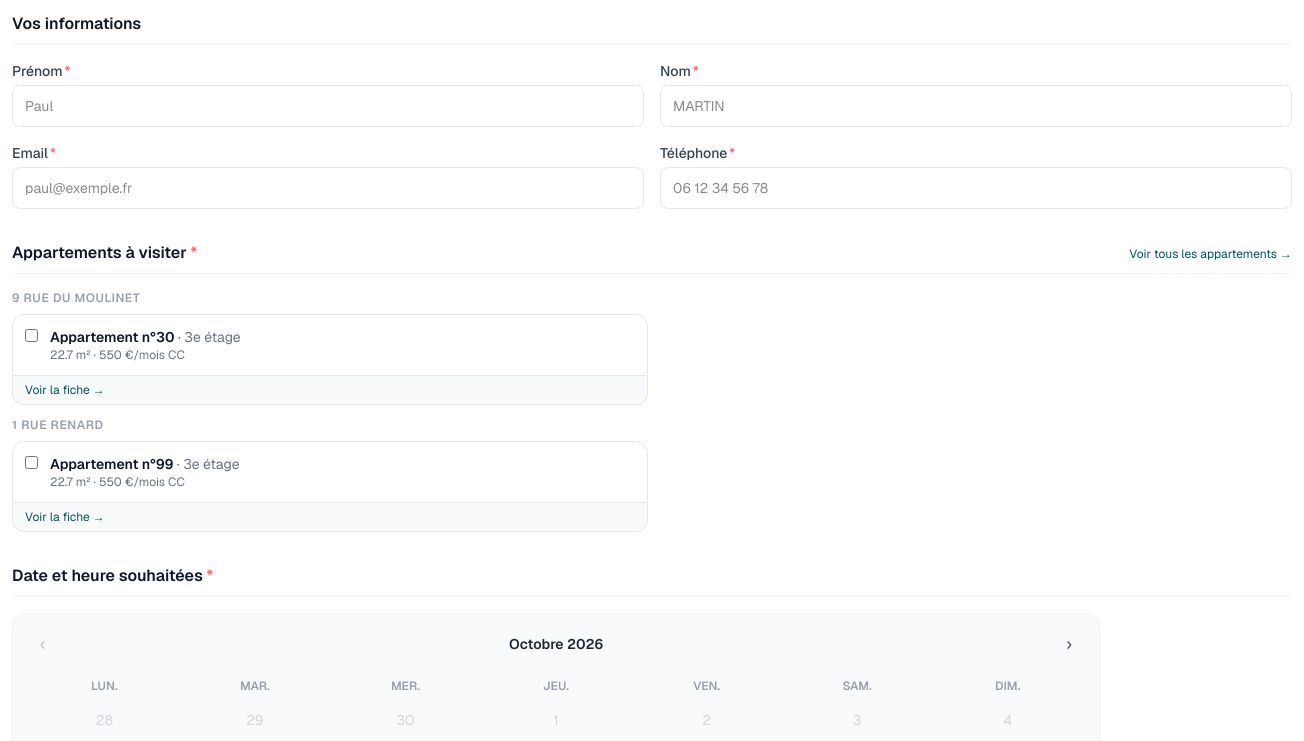
VisitorForm — sélection d'appartement et créneau › interdit de sélectionner un appartement d'un autre immeuble
What coordinates should you click on to do the following:
click the checkbox labelled "Appartement n°30 · 3e étage 22.7 m² · 550 €/mois CC"
I would click on:
 (32, 336)
Its box is [25, 329, 38, 342].
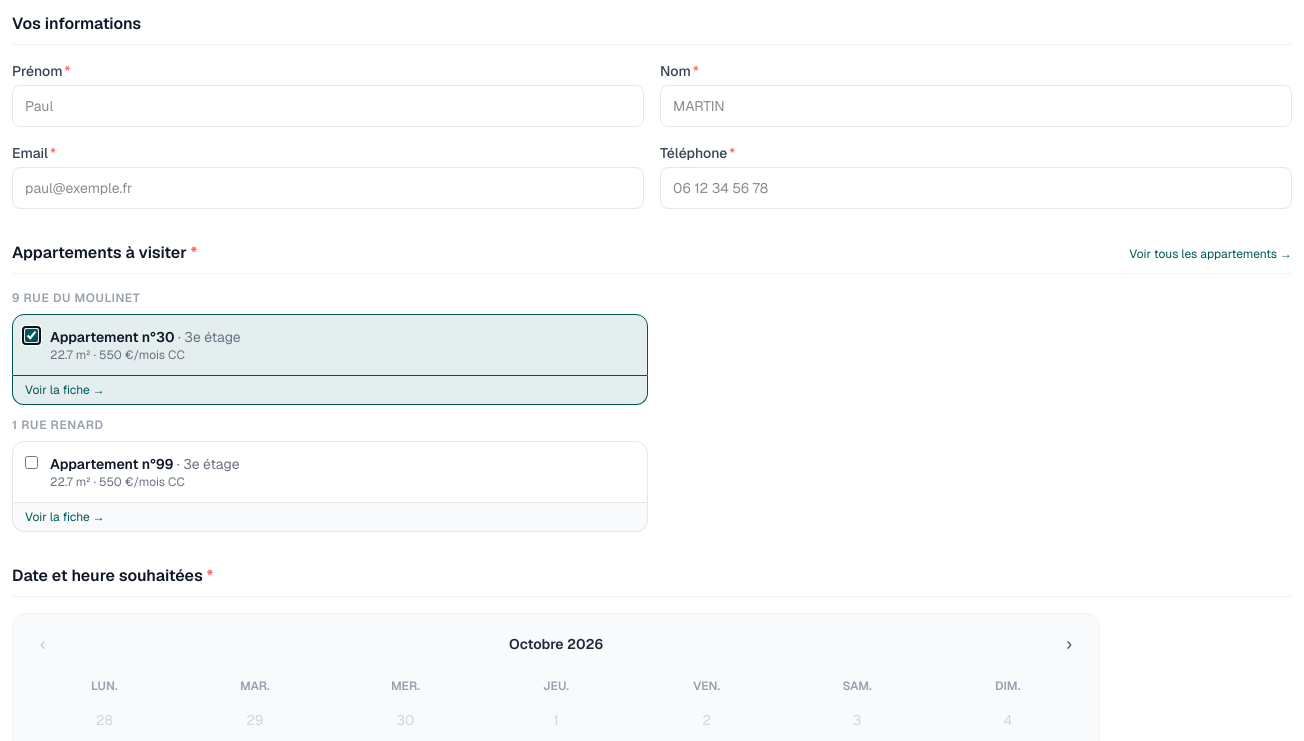
What coordinates should you click on to do the following:
click the checkbox labelled "Appartement n°99 · 3e étage 22.7 m² · 550 €/mois CC"
I would click on:
 (32, 462)
Its box is [25, 456, 38, 469].
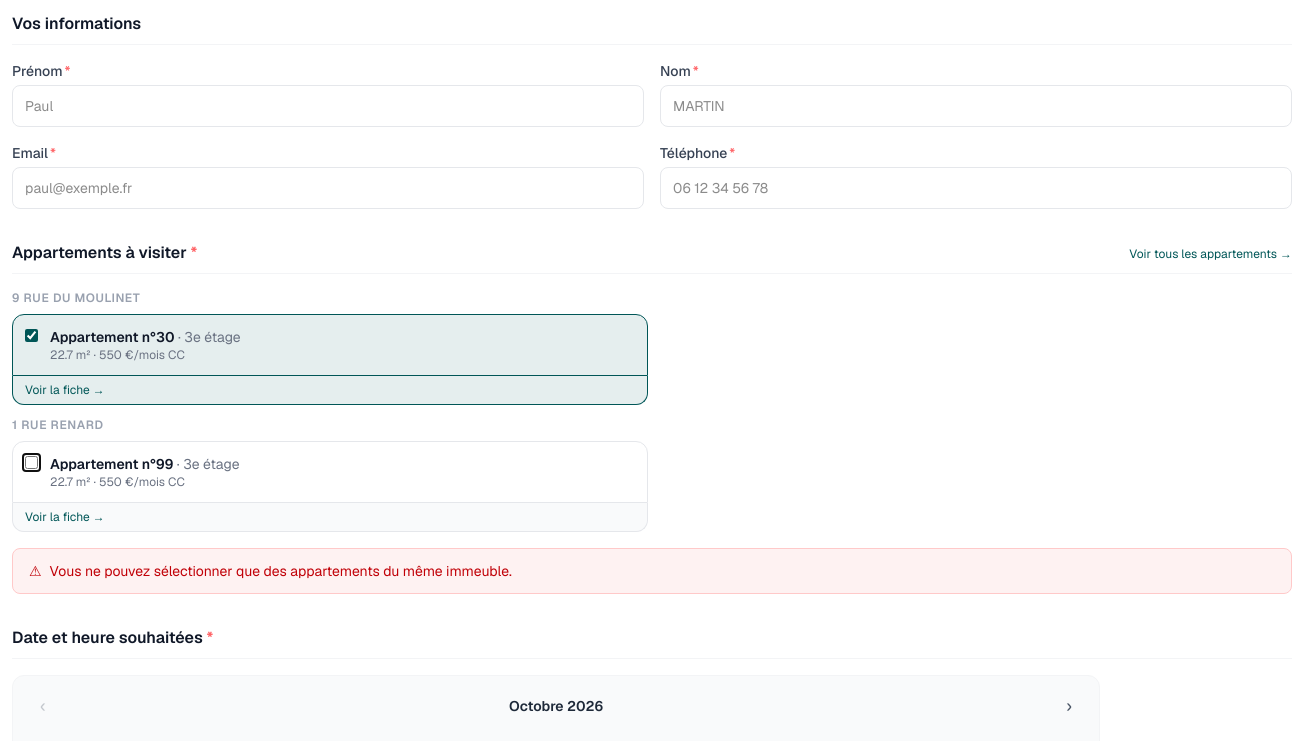
Expected: the text "même immeuble" is shown, [50, 562, 512, 580]
